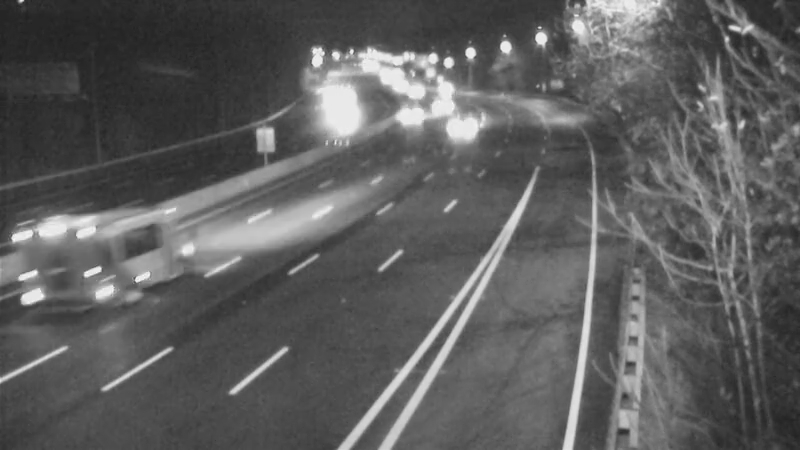vehicle: (31, 243, 111, 323), (388, 68, 438, 118), (415, 77, 465, 127), (421, 60, 471, 110), (442, 101, 492, 151), (387, 90, 437, 140), (317, 100, 367, 150)
